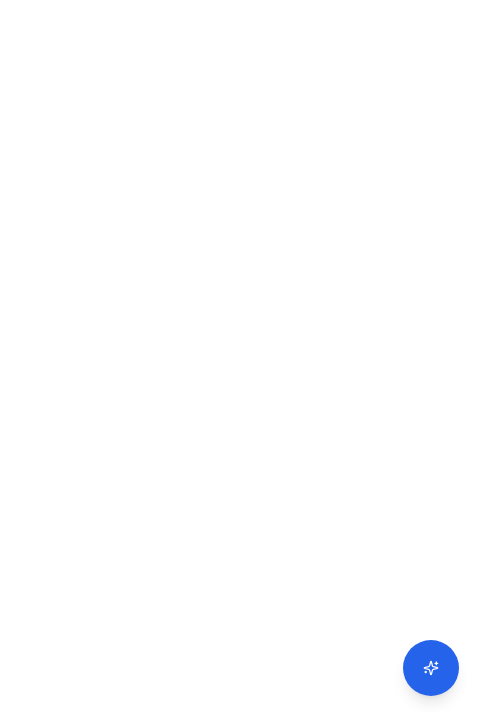
AIAssistant › shows loading state and assistant response
The width and height of the screenshot is (487, 712).
Later steps or results of the test are not shown.
Click the button named "Открыть AI-ассистента": (431, 668) [403, 640, 459, 696]
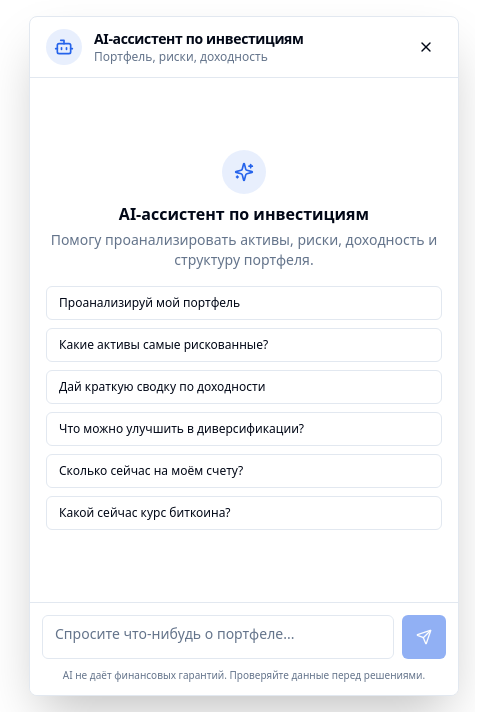
In the text box with placeholder "Спросите что-нибудь о портфеле...": (218, 637) [42, 615, 394, 659], type "Say hello"
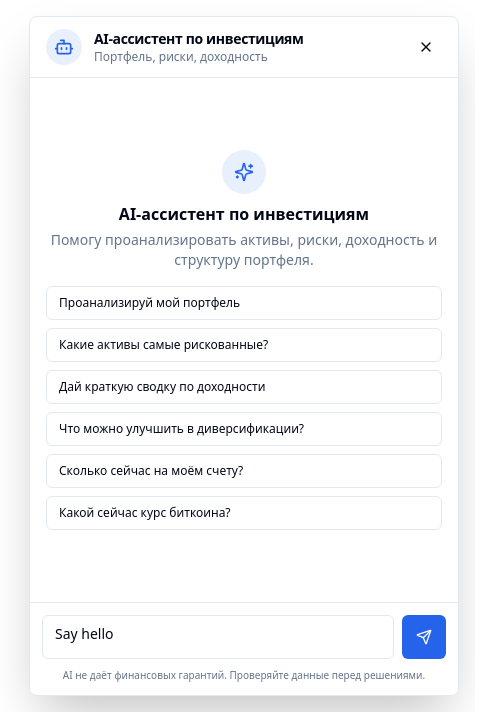
Click the button named "Отправить": (424, 637) [402, 615, 446, 659]
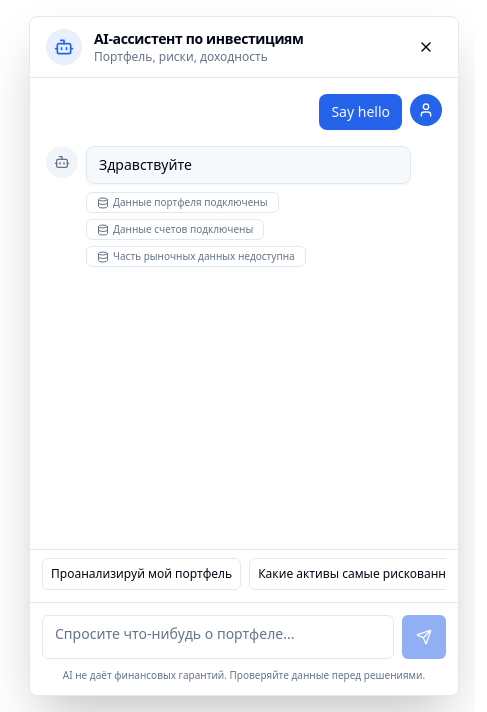
Now the text "Здравствуйте" is shown, box [99, 155, 192, 174]
Now the text "Данные портфеля подключены" is shown, box [86, 192, 278, 213]
Now the text "Данные счетов подключены" is shown, box [86, 219, 264, 240]
